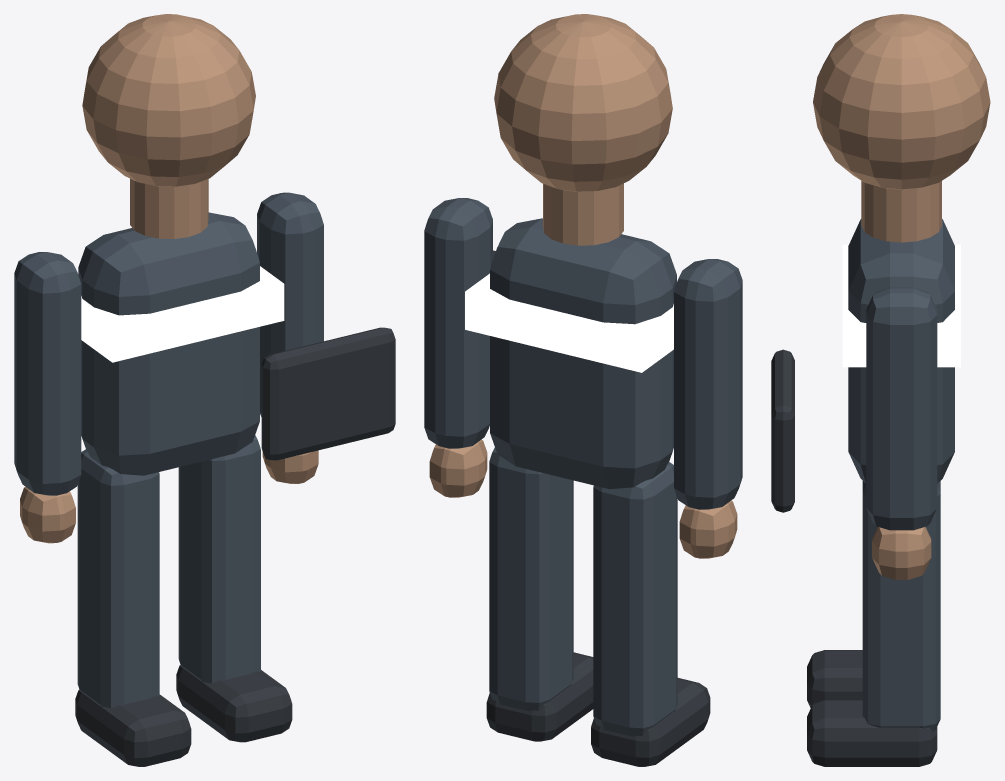
File: engineer.glb
The picture shows the model from 3 angles, left to right: view 1: azimuth 30°, elevation 25°; view 2: azimuth 150°, elevation 25°; view 3: azimuth 270°, elevation 25°; orthographic projection. The views are drawn at different scales.
Visible parts, largest first — view 1: ZDC_engineer; view 2: ZDC_engineer; view 3: ZDC_engineer.
Part boxes in pixels (x1,y1,x2,y2): ZDC_engineer: (14,14,395,766); ZDC_engineer: (424,14,742,766); ZDC_engineer: (771,14,990,766).
Bounding box in the file's own units: 0.31 × 0.6625 × 0.185.
